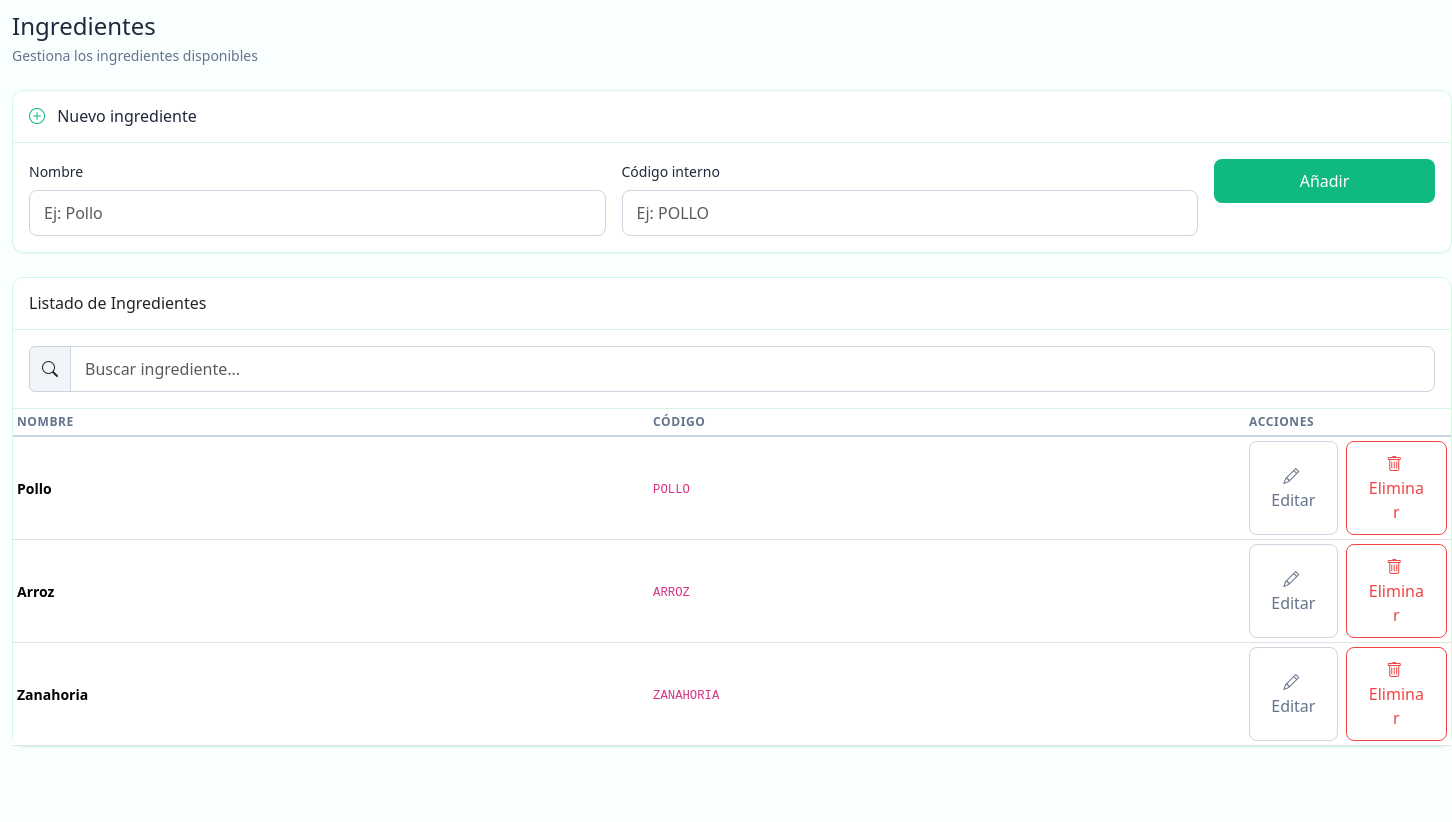
Test: IngredientsView › shows clear button when search has value
In the field with placeholder "Buscar ingrediente...": (752, 369) [70,346,1435,392], type "Pollo"
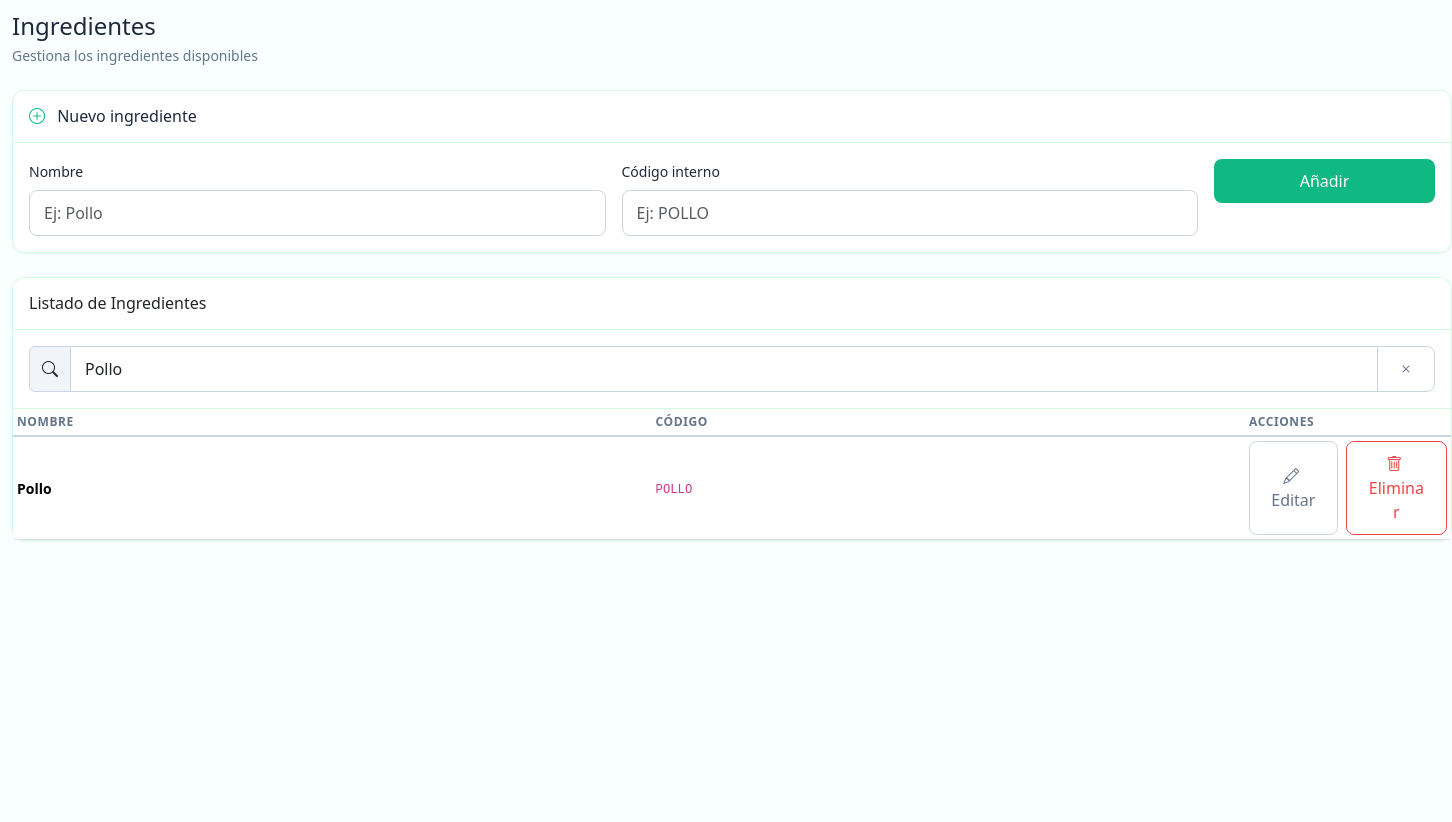
Check: the button named "Limpiar búsqueda" is shown, box [1377,346,1435,392]
